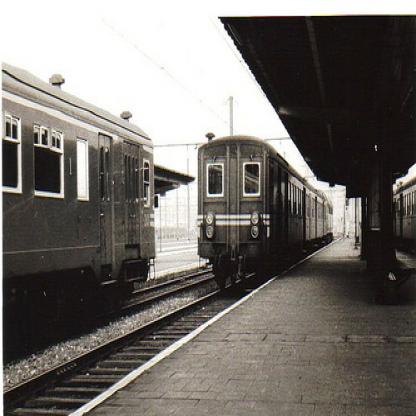train: (1, 57, 156, 354), (196, 131, 336, 290), (393, 176, 415, 255)
